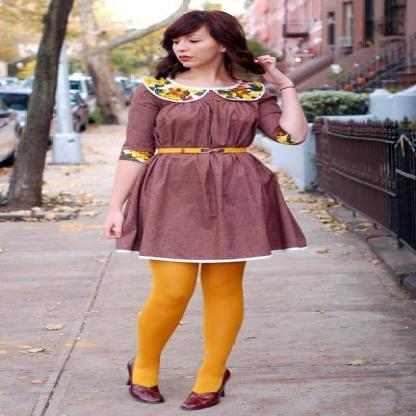dress: (107, 75, 306, 259)
shoe: (127, 374, 230, 410)
